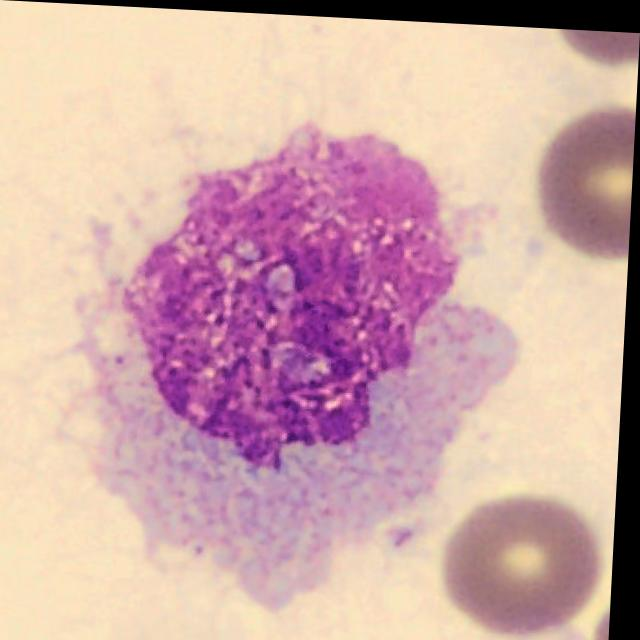Restos celulares: (89, 119, 521, 608)
